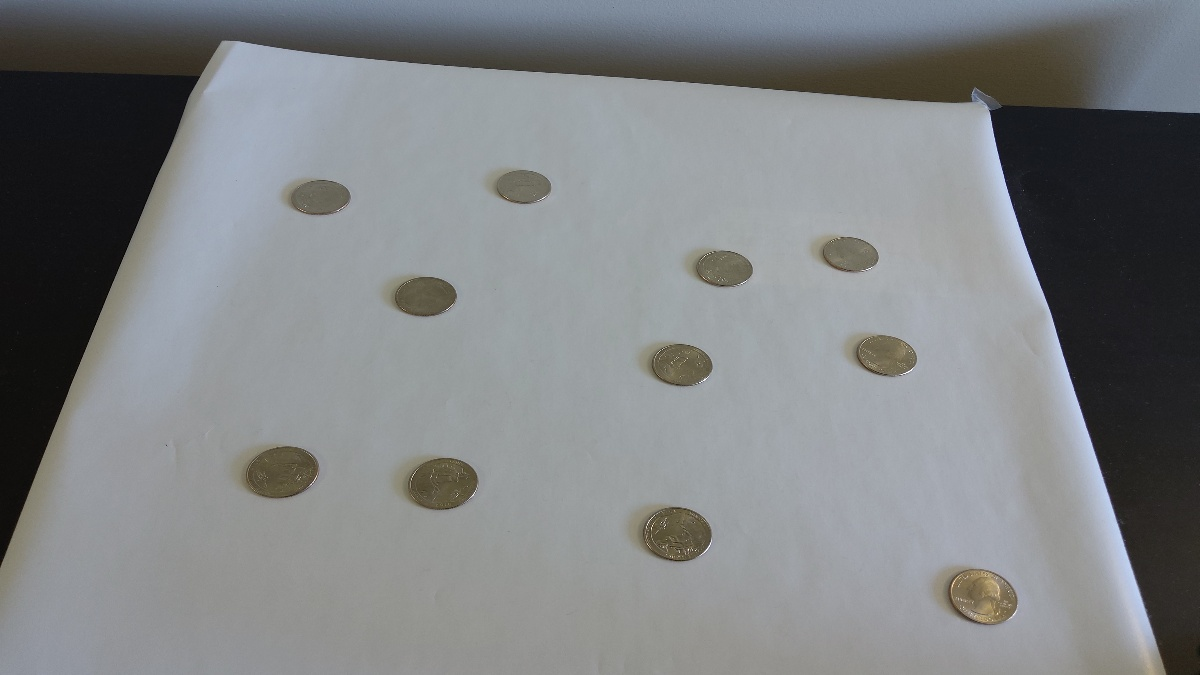coin_quarter: (938, 559, 1026, 631), (237, 435, 325, 504), (403, 448, 486, 514), (636, 504, 720, 565), (847, 328, 923, 390), (651, 334, 719, 395), (387, 269, 461, 318), (286, 172, 357, 222), (818, 230, 891, 276), (487, 164, 555, 210), (694, 245, 760, 292)
